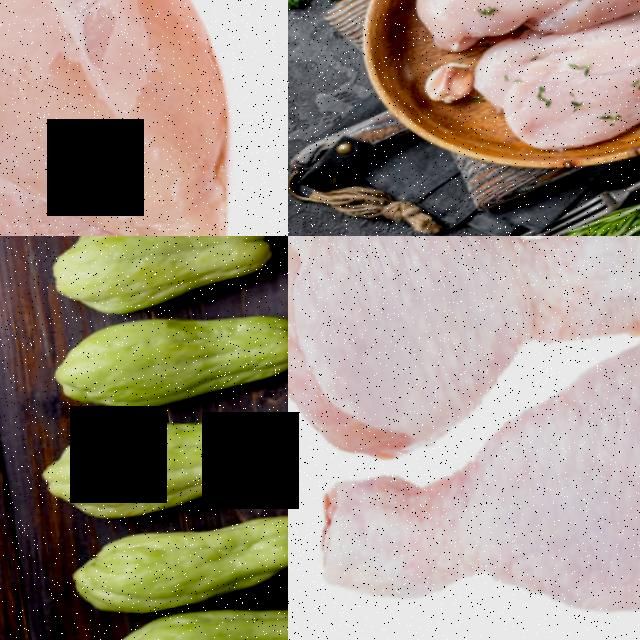chayote: (22, 400, 288, 531), (51, 489, 288, 636), (36, 302, 288, 422), (24, 236, 288, 334), (69, 593, 288, 640)
chicken breast: (0, 0, 288, 236), (443, 0, 640, 163), (408, 0, 640, 53)
chicken thigh: (288, 339, 640, 640), (288, 236, 640, 477)
